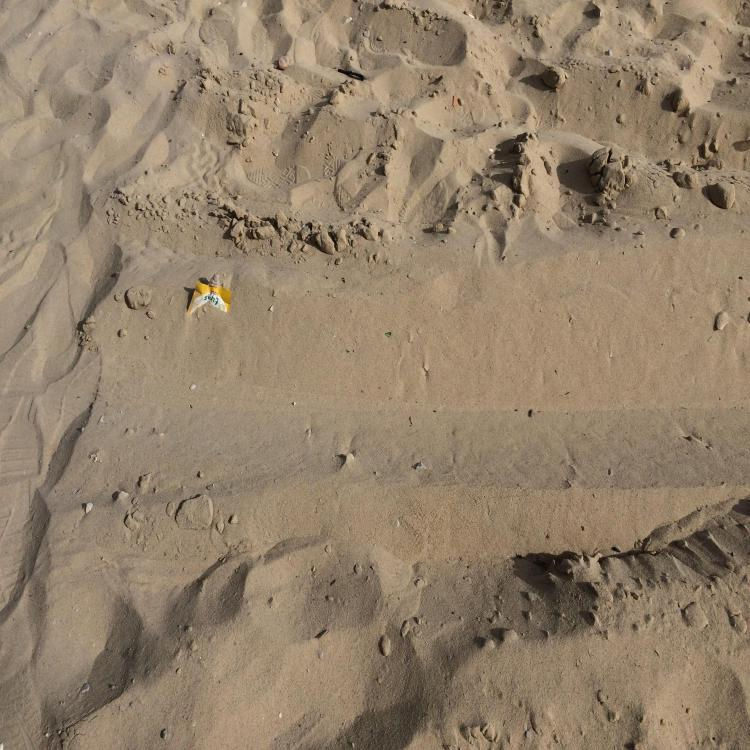Plastic straw: (338, 69, 366, 80)
